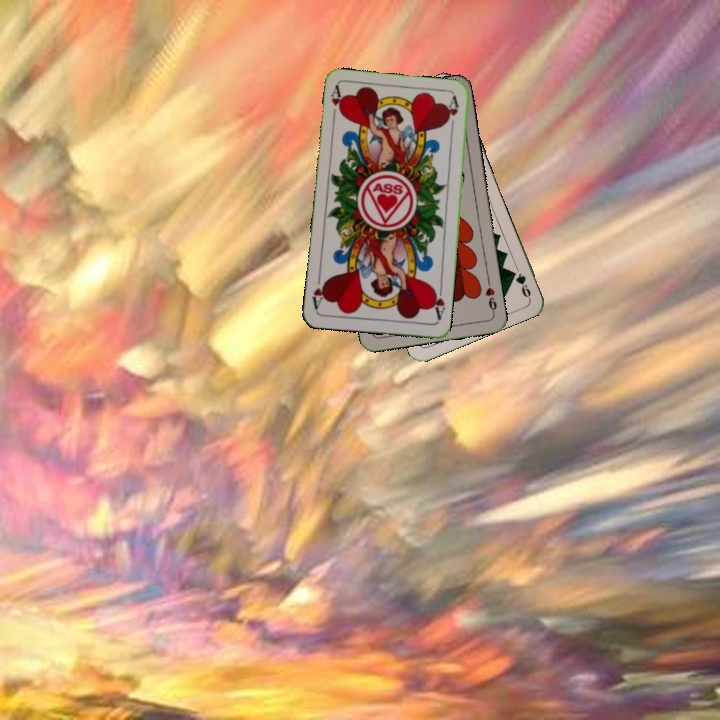G9: (512, 262, 533, 301)
H9: (481, 276, 499, 317)
HA: (327, 83, 346, 124), (428, 282, 447, 322)
